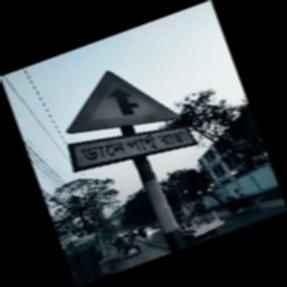Side-road-right: (65, 71, 191, 175)
